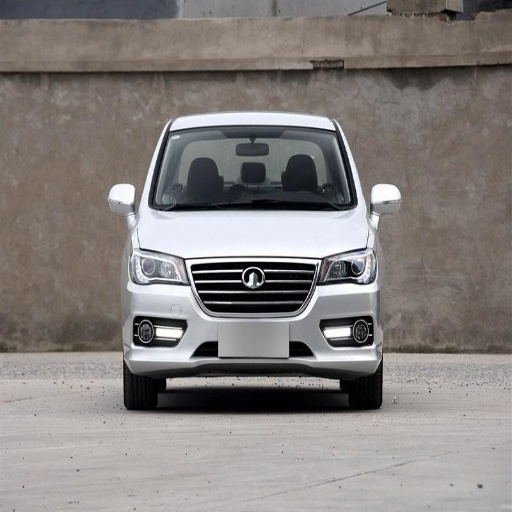front_bumper: (123, 257, 382, 377)
front_right_light: (130, 246, 183, 284)
hood: (139, 208, 367, 257)
